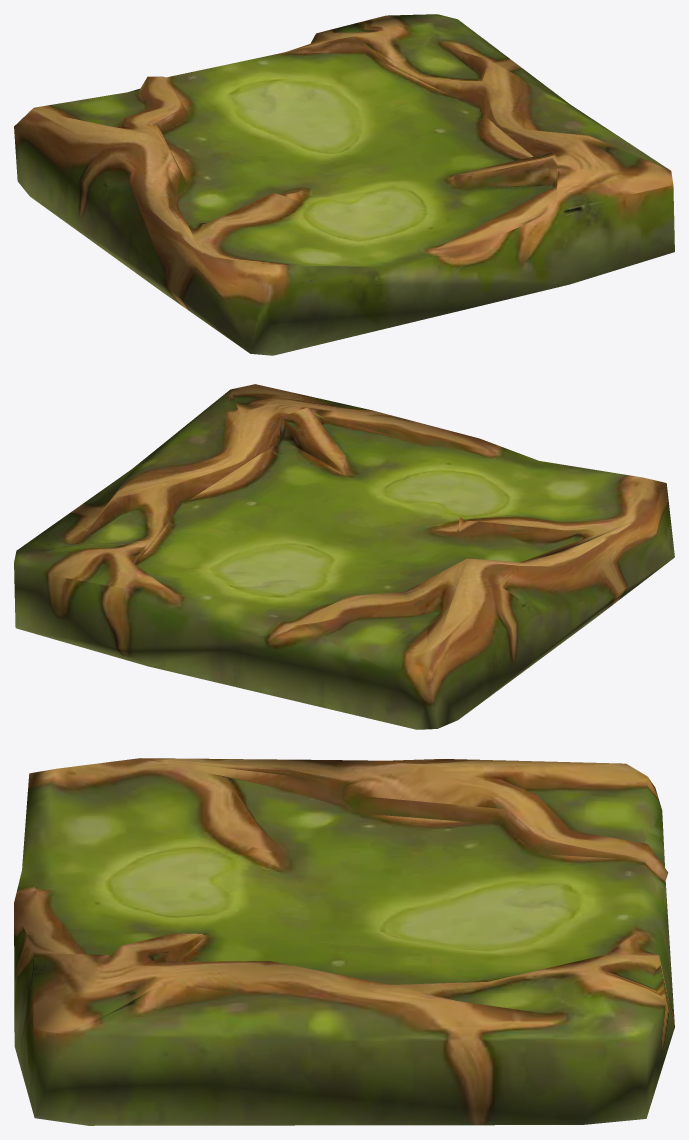
File: gnd_swamp.glb
3 views of the same model, one above another, from view 1: azimuth 30°, elevation 25°; view 2: azimuth 150°, elevation 25°; view 3: azimuth 270°, elevation 25° (orthographic). The views are drawn at different scales.
Parts seen in each view (by area): view 1: Mesh0; view 2: Mesh0; view 3: Mesh0.
Boxes of the visible parts, x1=… form: Mesh0: x1=14, y1=14, x2=674, y2=355; Mesh0: x1=14, y1=384, x2=674, y2=729; Mesh0: x1=14, y1=758, x2=674, y2=1125.
Size of the model in its own units: 1.87 by 0.4418 by 1.87.
Materials: 1 (1 with a texture image).
